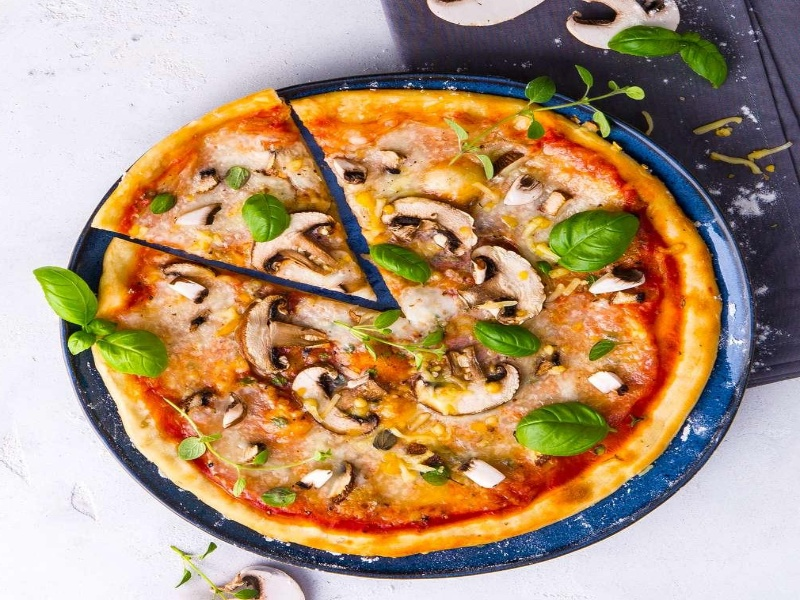champignon: (417, 342, 523, 419), (240, 291, 329, 382), (468, 241, 550, 335), (247, 208, 346, 282), (290, 360, 381, 439), (379, 196, 483, 262)
